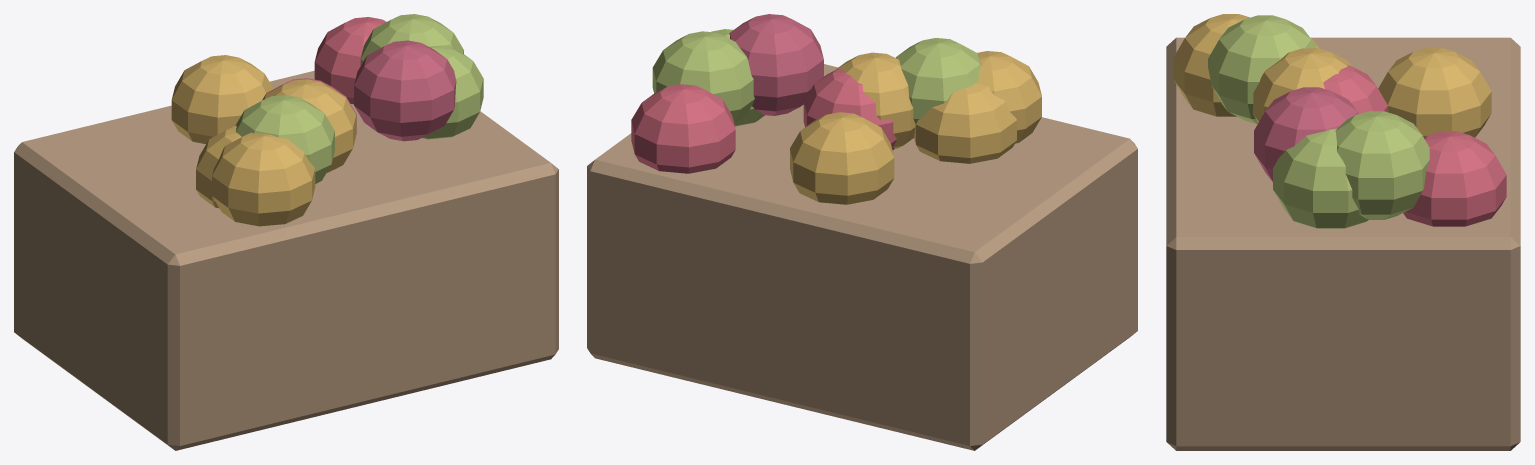
File: FruitCrate.fbx
3 renders of one model, left to right at view 1: azimuth 30°, elevation 25°; view 2: azimuth 150°, elevation 25°; view 3: azimuth 270°, elevation 25°, orthographic. The views are drawn at different scales.
Visible parts, largest first — view 1: Prop_FruitCrate; view 2: Prop_FruitCrate; view 3: Prop_FruitCrate.
Part boxes in pixels (left/top/right/bottom): Prop_FruitCrate: left=14, top=14, right=558, bottom=450; Prop_FruitCrate: left=587, top=14, right=1137, bottom=450; Prop_FruitCrate: left=1166, top=14, right=1520, bottom=450.
Size of the model in its own units: 0.5 by 0.3523 by 0.36.
